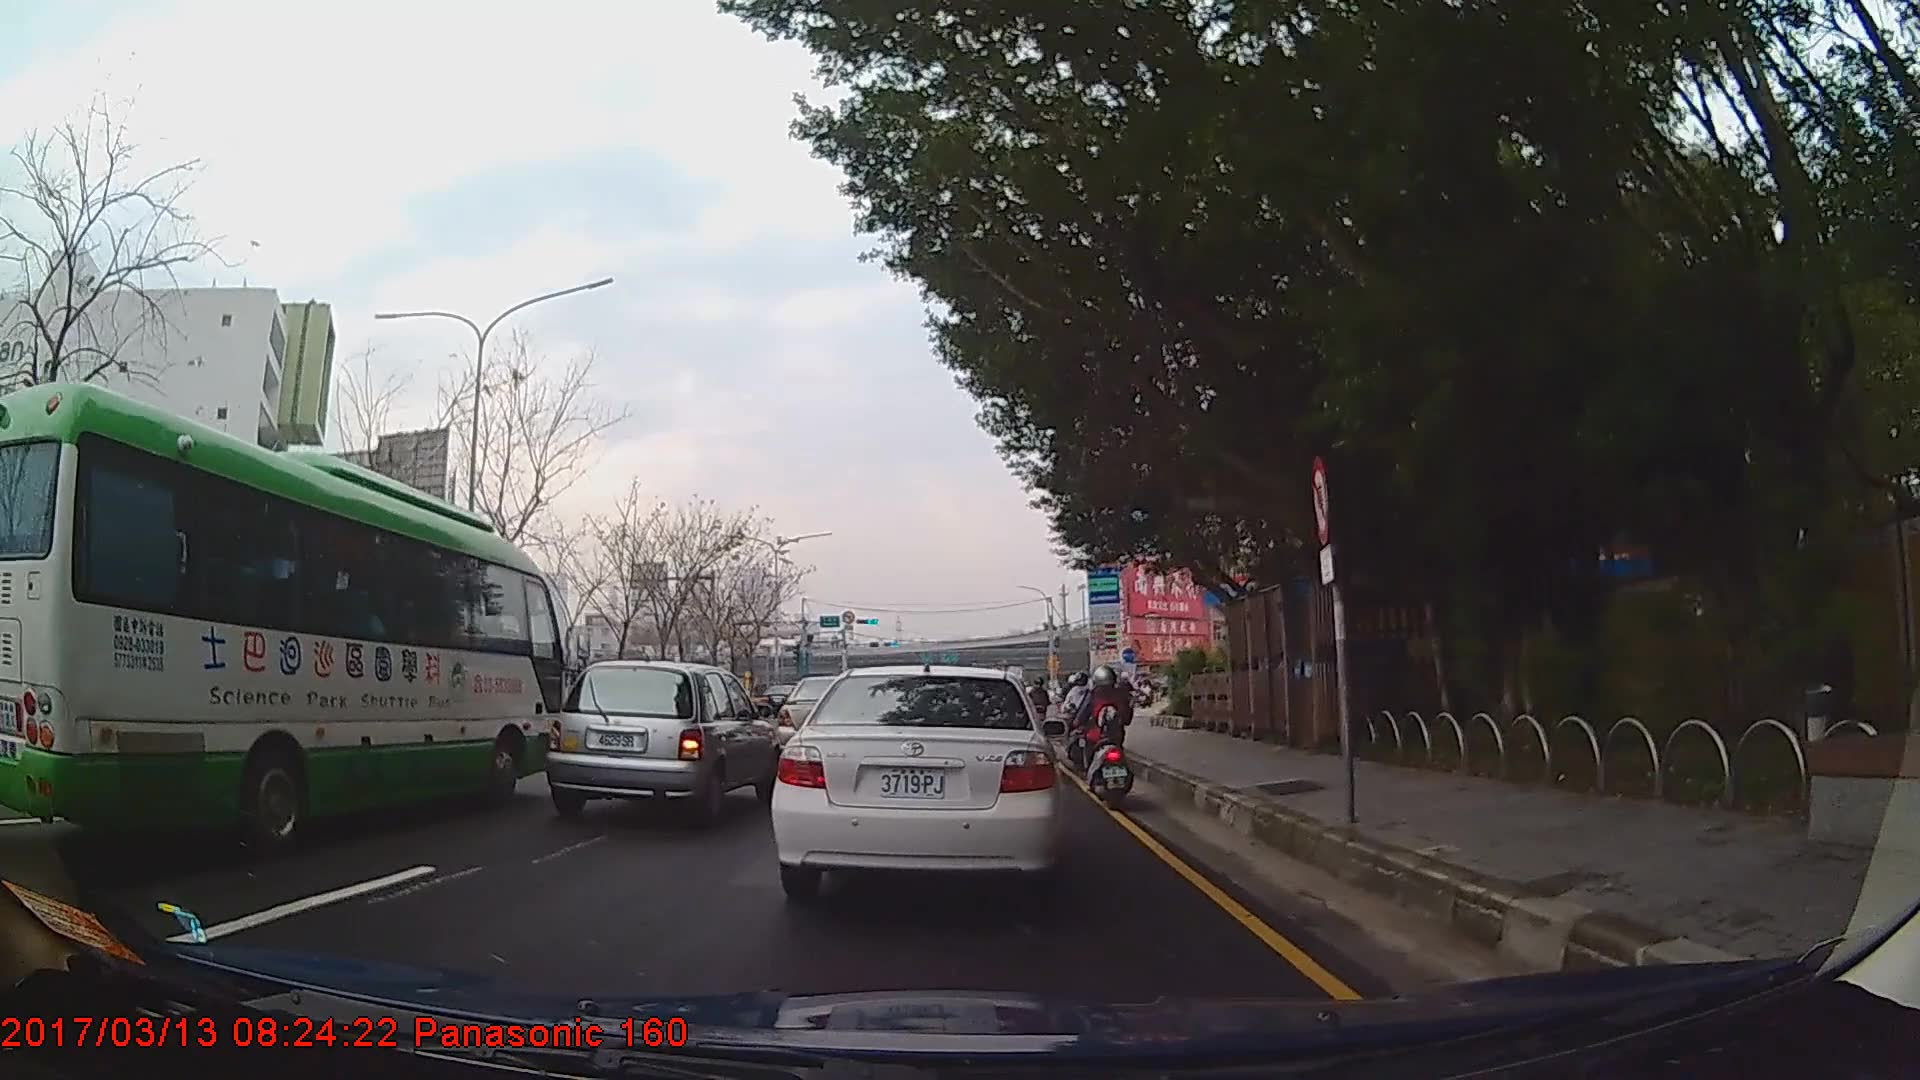rider: (1078, 660, 1132, 811), (1063, 670, 1100, 773), (1028, 675, 1052, 732)
vehicle: (2, 377, 564, 851), (770, 664, 1064, 898), (545, 656, 780, 829), (759, 681, 802, 714)
